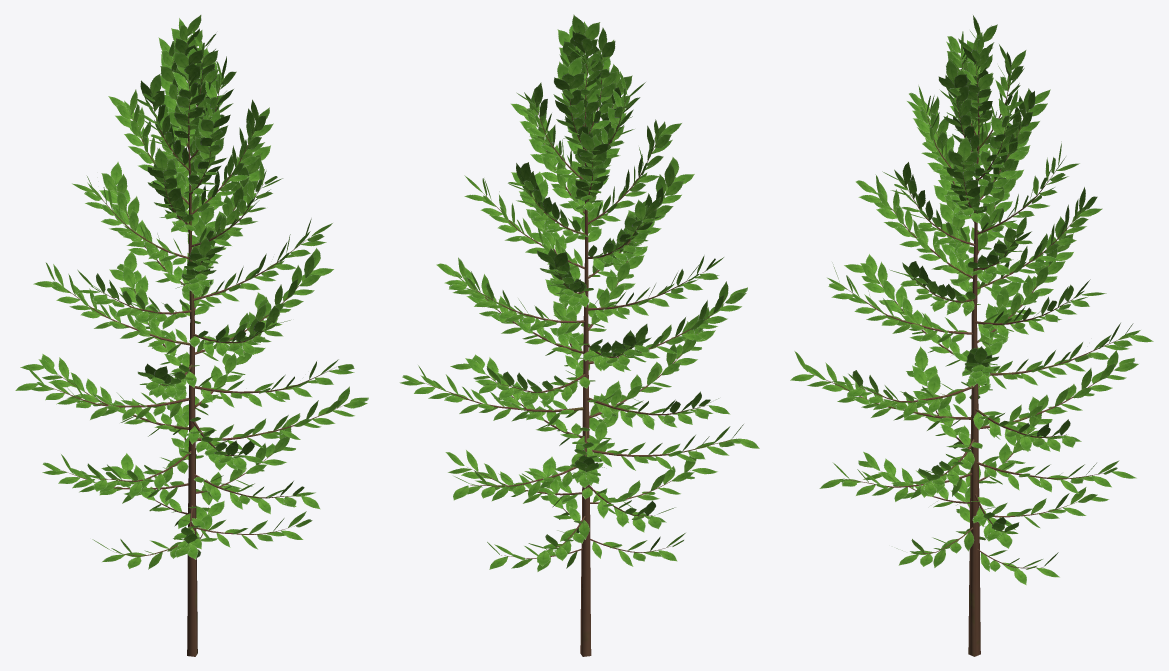
The model's file is TreeLong_LOD_single.fbx.
3 renders of one model, left to right at view 1: azimuth 30°, elevation 25°; view 2: azimuth 150°, elevation 25°; view 3: azimuth 270°, elevation 25°, orthographic.
Visible parts, largest first — view 1: Tree_mesh_LOD0; view 2: Tree_mesh_LOD0; view 3: Tree_mesh_LOD0.
Boxes of the visible parts, x1,y1,x2,y2 form: Tree_mesh_LOD0: (15,15,368,656); Tree_mesh_LOD0: (399,14,759,656); Tree_mesh_LOD0: (790,15,1153,656).
Size of what is drawn, in the model's own units: 936 by 1790 by 931.
